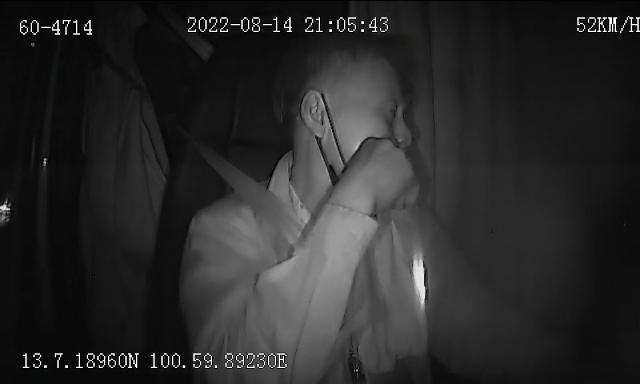Seatbelt: (183, 132, 305, 242)
